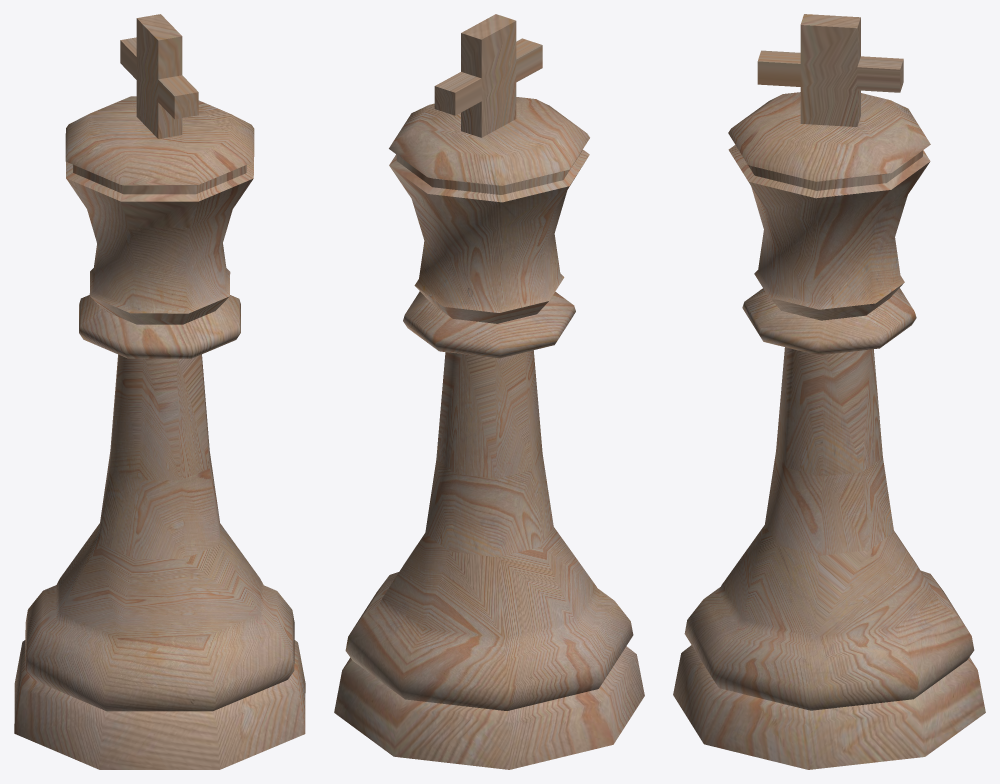
The model's file is WhiteKing.gltf.
3 views of the same model, side by side, from view 1: azimuth 30°, elevation 25°; view 2: azimuth 150°, elevation 25°; view 3: azimuth 270°, elevation 25° (orthographic).
Parts seen in each view (by area): view 1: Object_24; view 2: Object_24; view 3: Object_24.
Part boxes in pixels (x1,y1,x2,y2): Object_24: [14, 14, 305, 769]; Object_24: [334, 14, 644, 769]; Object_24: [673, 14, 985, 769].
Bounding box in the file's own units: 0.0294 × 0.0709 × 0.0294.
1 material, 1 textured.
